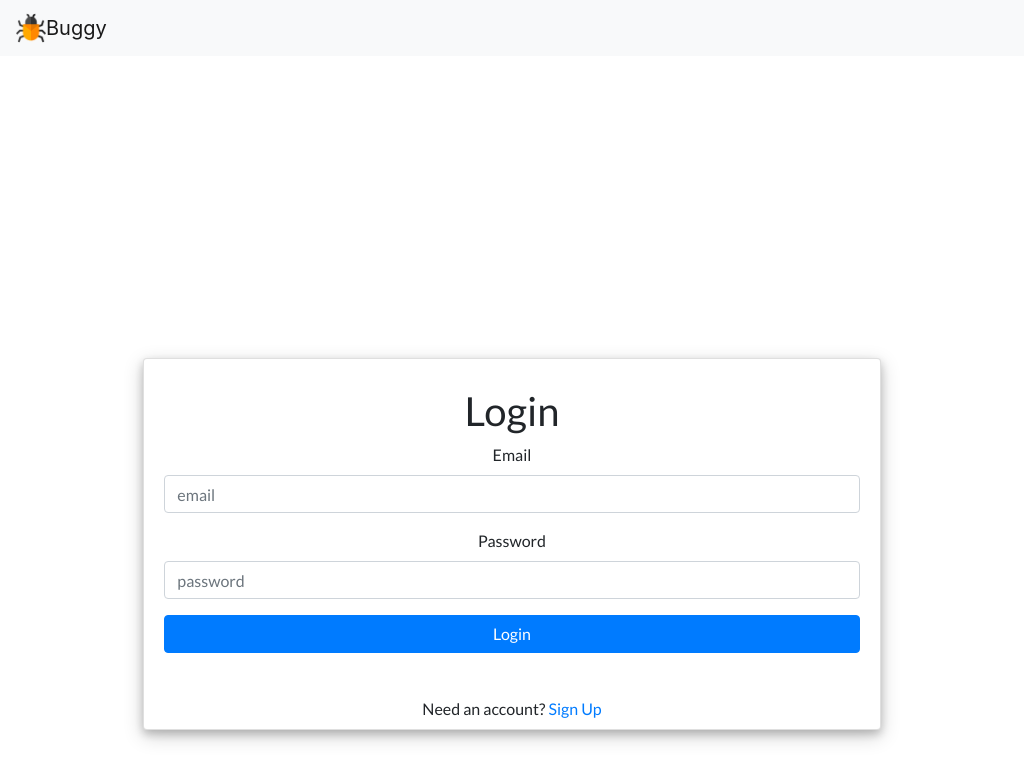
Test: renders the login page › returns error if wrong password
In the field with placeholder "email": (512, 494) [164,475,859,513], type "random@user.pl"
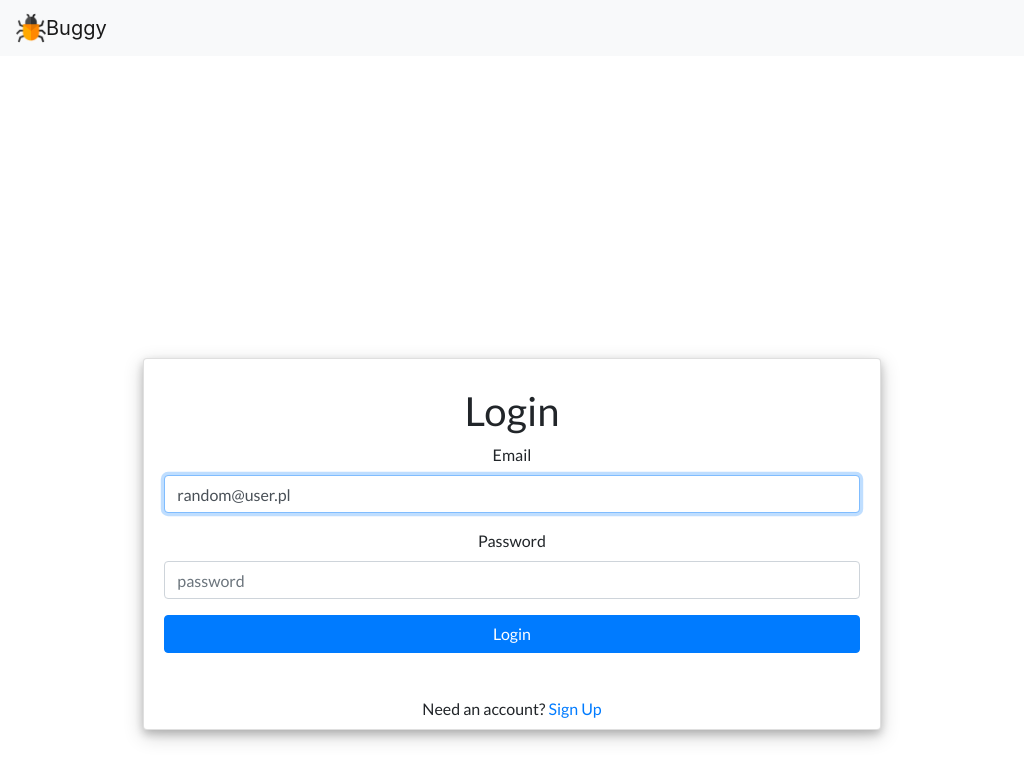
In the password field with placeholder "password": (512, 580) [164,561,859,599], type "r"
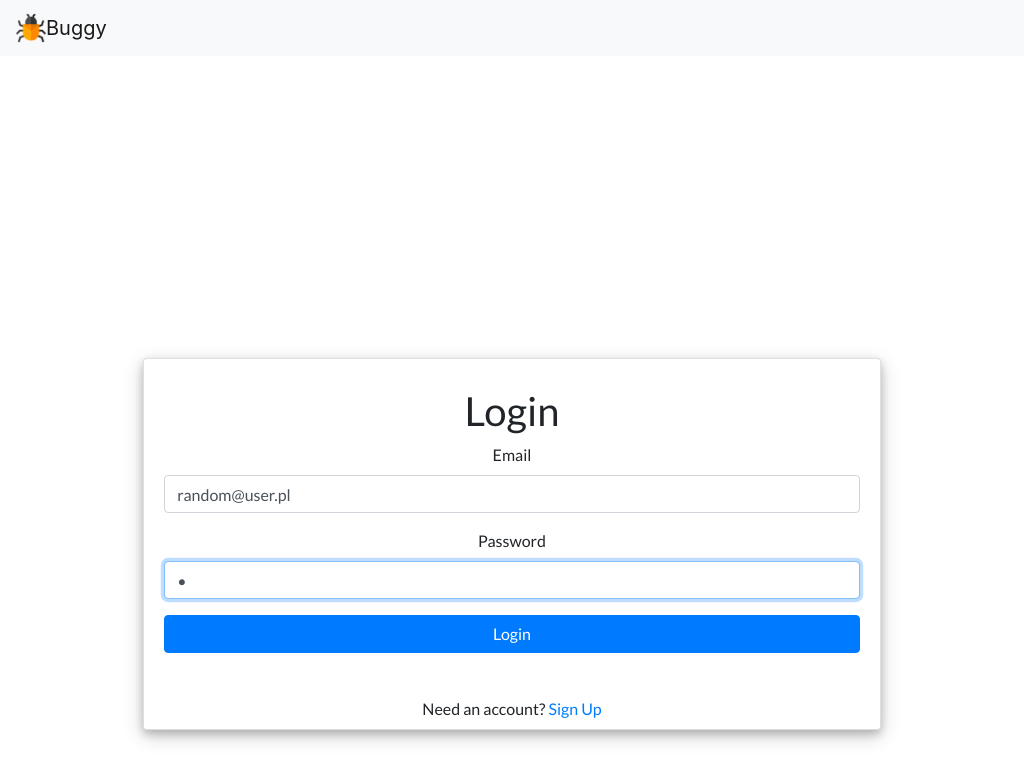
Click the button "Login": (512, 634) [164,615,859,653]
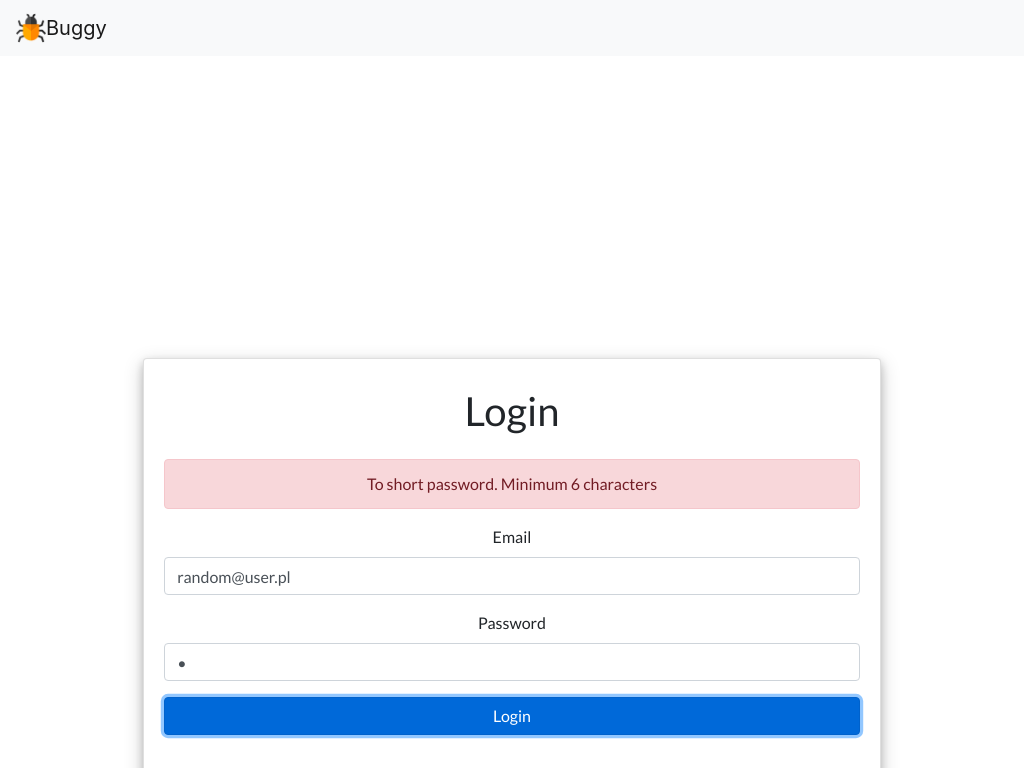
Now the text "To short password. Minimum 6 characters" is shown, box [164,459,860,509]
